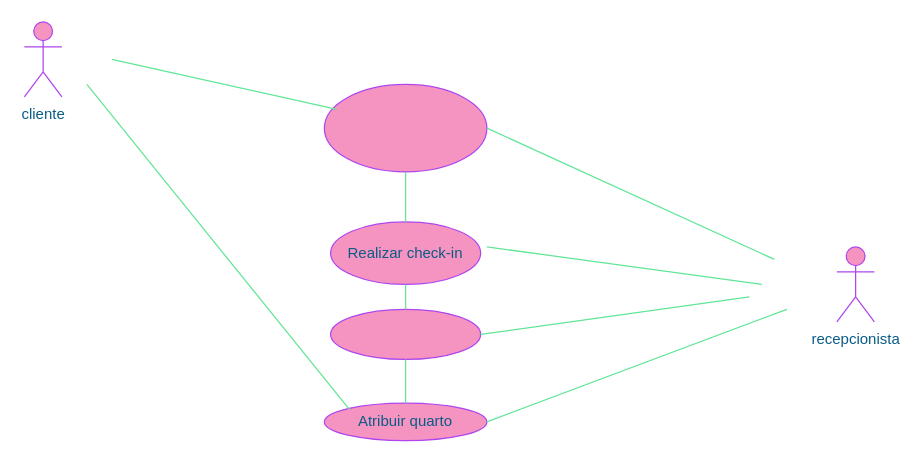
Some shapes in this 921 by 463 pixel diagram are drawn without their labels. Here are the shapes that lost their labels. From the top down, the centre of each, then its label:
At [405,127]: "Solicitar informações".
At [405,333]: "Confirmar reserva".
